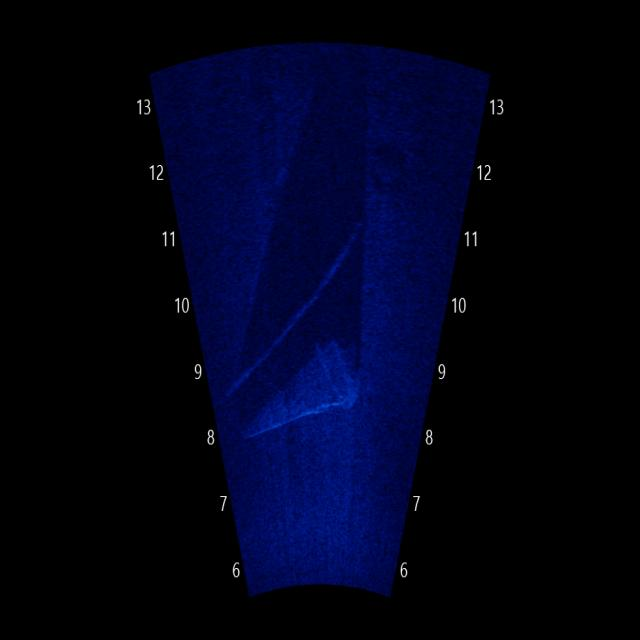triangle: (236, 316, 375, 459)
